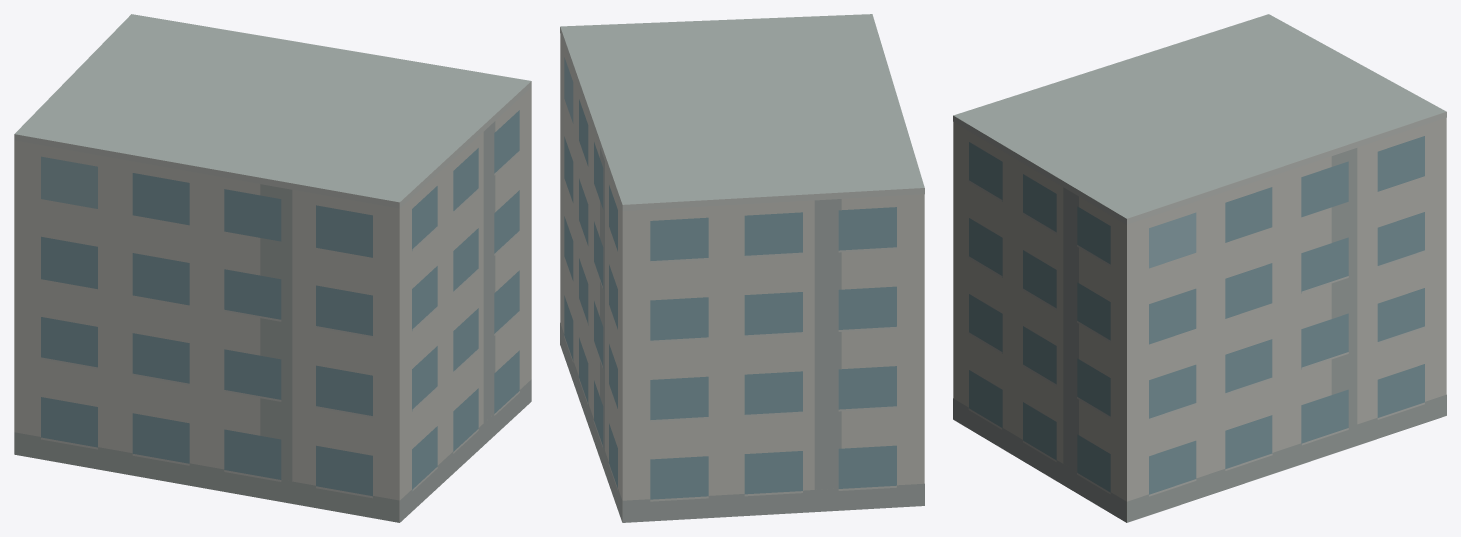
File: residential-993171fe-4c4f-442f-95e4-8f81ac518857.glb
3 views of the same model, side by side, from view 1: azimuth 30°, elevation 25°; view 2: azimuth 150°, elevation 25°; view 3: azimuth 270°, elevation 25° (orthographic). The views are drawn at different scales.
Parts seen in each view (by area): view 1: residential-993171fe-4c4f-442f-95e4-8f81ac518857.tmp; view 2: residential-993171fe-4c4f-442f-95e4-8f81ac518857.tmp; view 3: residential-993171fe-4c4f-442f-95e4-8f81ac518857.tmp.
Part boxes in pixels (<box>): residential-993171fe-4c4f-442f-95e4-8f81ac518857.tmp: <box>14,14,531,522</box>; residential-993171fe-4c4f-442f-95e4-8f81ac518857.tmp: <box>560,14,924,522</box>; residential-993171fe-4c4f-442f-95e4-8f81ac518857.tmp: <box>953,14,1446,522</box>.
Bounding box in the file's own units: 17.63 × 12.2 × 17.95.
